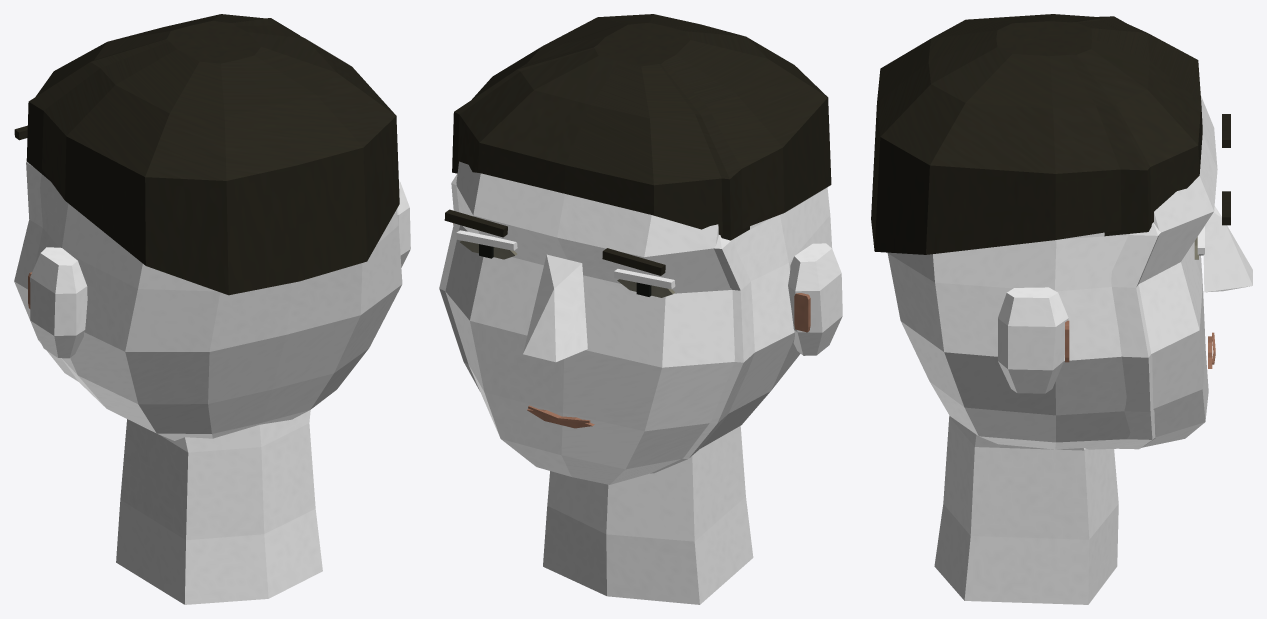
3 views of the same model, side by side, from view 1: azimuth 30°, elevation 25°; view 2: azimuth 150°, elevation 25°; view 3: azimuth 270°, elevation 25° (orthographic). The views are drawn at different scales.
Visible parts, largest first — view 1: face_00_head_LOD0_RAID_skin.001, face_00_head_LOD0_RAID_hair0.001, face_00_head_LOD1_RAID_hair0.001, face_00_head_LOD1_RAID_skin.001; view 2: face_00_head_LOD0_RAID_skin.001, face_00_head_LOD0_RAID_hair0.001, face_00_head_LOD1_RAID_hair0.001, face_00_head_LOD1_RAID_skin.001, face_00_head_LOD0_RAID_lip.001, face_00_head_LOD0_RAID_eye.001; view 3: face_00_head_LOD0_RAID_skin.001, face_00_head_LOD0_RAID_hair0.001, face_00_head_LOD1_RAID_skin.001, face_00_head_LOD1_RAID_hair0.001.
Part boxes in pixels (left/top/right/bottom): face_00_head_LOD0_RAID_skin.001: left=30, top=174, right=410, bottom=604; face_00_head_LOD0_RAID_hair0.001: left=14, top=14, right=399, bottom=295; face_00_head_LOD1_RAID_hair0.001: left=26, top=18, right=299, bottom=180; face_00_head_LOD1_RAID_skin.001: left=14, top=161, right=78, bottom=381; face_00_head_LOD0_RAID_skin.001: left=445, top=161, right=842, bottom=604; face_00_head_LOD0_RAID_hair0.001: left=444, top=14, right=831, bottom=275; face_00_head_LOD1_RAID_hair0.001: left=452, top=25, right=749, bottom=240; face_00_head_LOD1_RAID_skin.001: left=439, top=173, right=754, bottom=473; face_00_head_LOD0_RAID_lip.001: left=453, top=223, right=810, bottom=428; face_00_head_LOD0_RAID_eye.001: left=460, top=240, right=674, bottom=297; face_00_head_LOD0_RAID_skin.001: left=887, top=95, right=1252, bottom=604; face_00_head_LOD0_RAID_hair0.001: left=871, top=14, right=1230, bottom=254; face_00_head_LOD1_RAID_skin.001: left=1111, top=222, right=1160, bottom=449; face_00_head_LOD1_RAID_hair0.001: left=997, top=16, right=1151, bottom=236.
Size of the model in its own units: 0.2884 by 0.395 by 0.259.
Materials: 5 (5 with a texture image).
